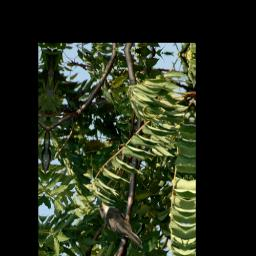Cuckoo: (97, 198, 147, 252)
